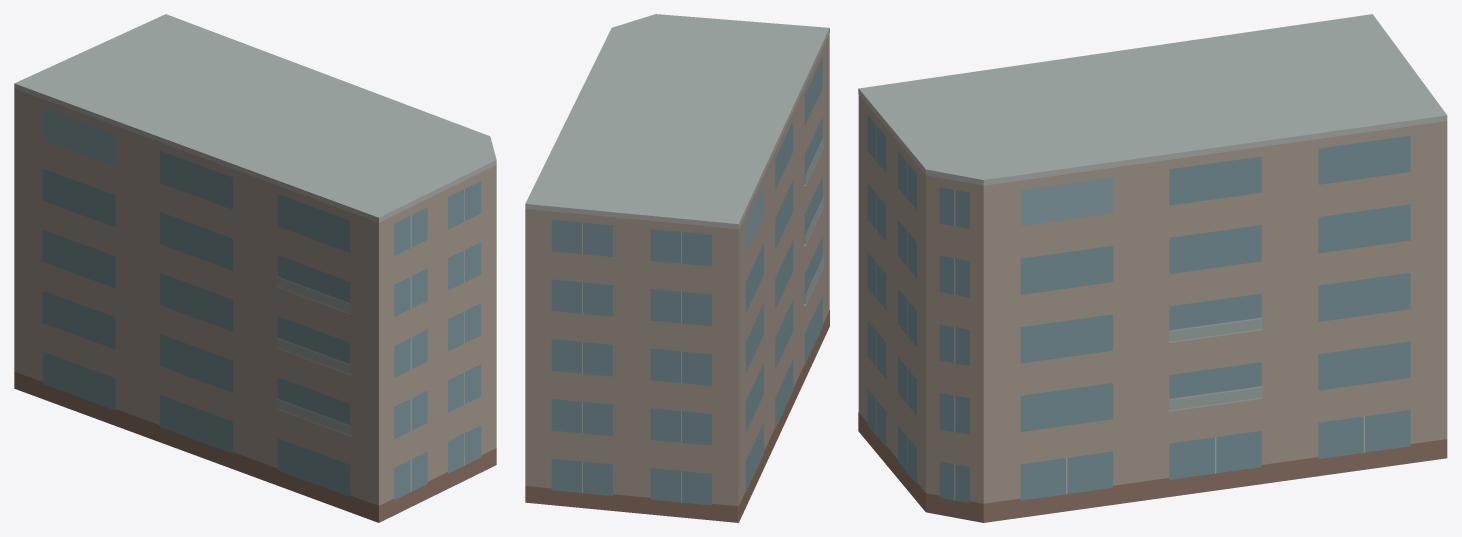
Rendered from survey-upis-32621375.glb.
The picture shows the model from 3 angles, left to right: view 1: azimuth 30°, elevation 25°; view 2: azimuth 150°, elevation 25°; view 3: azimuth 270°, elevation 25°; orthographic projection. The views are drawn at different scales.
Visible parts, largest first — view 1: survey-upis-32621375.tmp; view 2: survey-upis-32621375.tmp; view 3: survey-upis-32621375.tmp.
Part boxes in pixels (<box>): survey-upis-32621375.tmp: <box>14,14,496,522</box>; survey-upis-32621375.tmp: <box>525,14,829,522</box>; survey-upis-32621375.tmp: <box>858,14,1447,522</box>.
Bounding box in the file's own units: 15.18 × 14.6 × 22.73.
